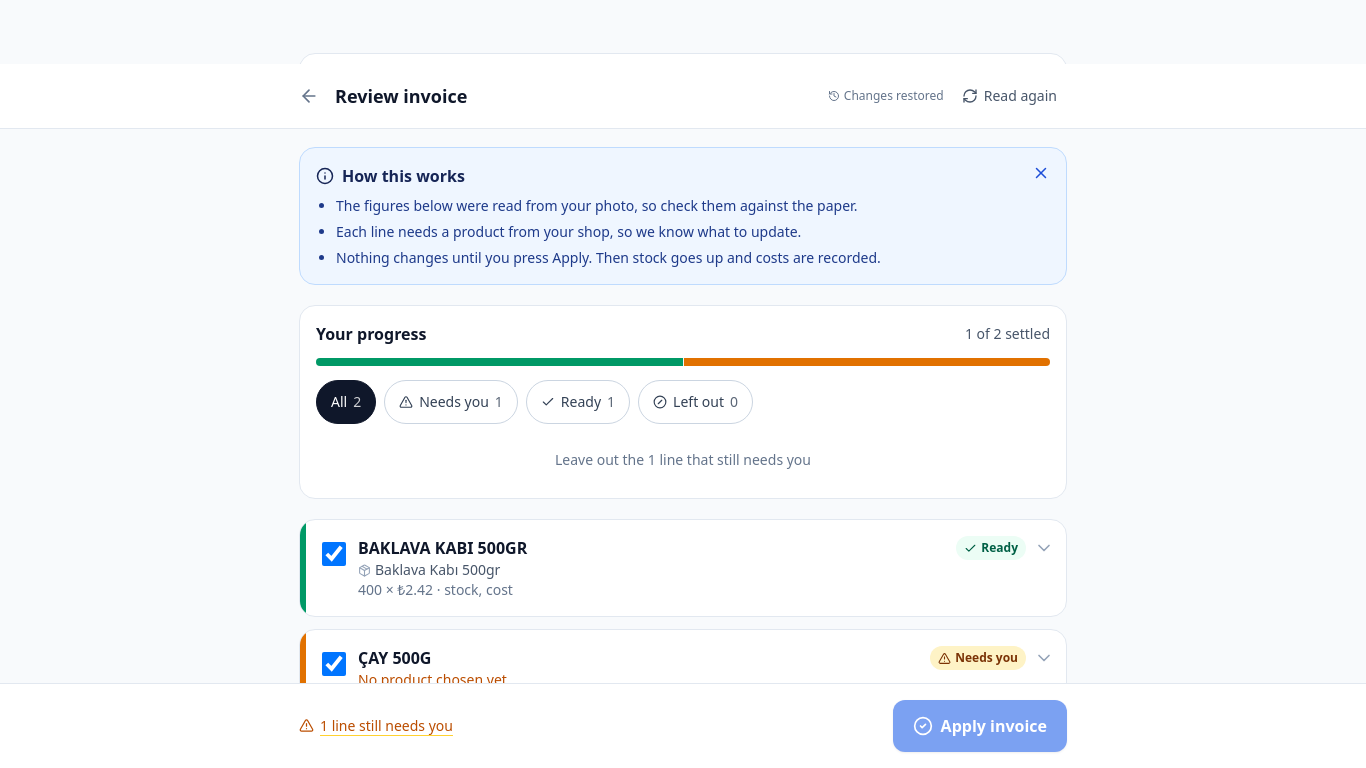
Test: getting through the lines › narrows to just the lines that still need a decision
Expected: the text "BAKLAVA KABI 500GR" is shown, [358, 537, 527, 559]
Click the button "Needs you 1".
click(451, 402)  # box [384, 380, 518, 424]
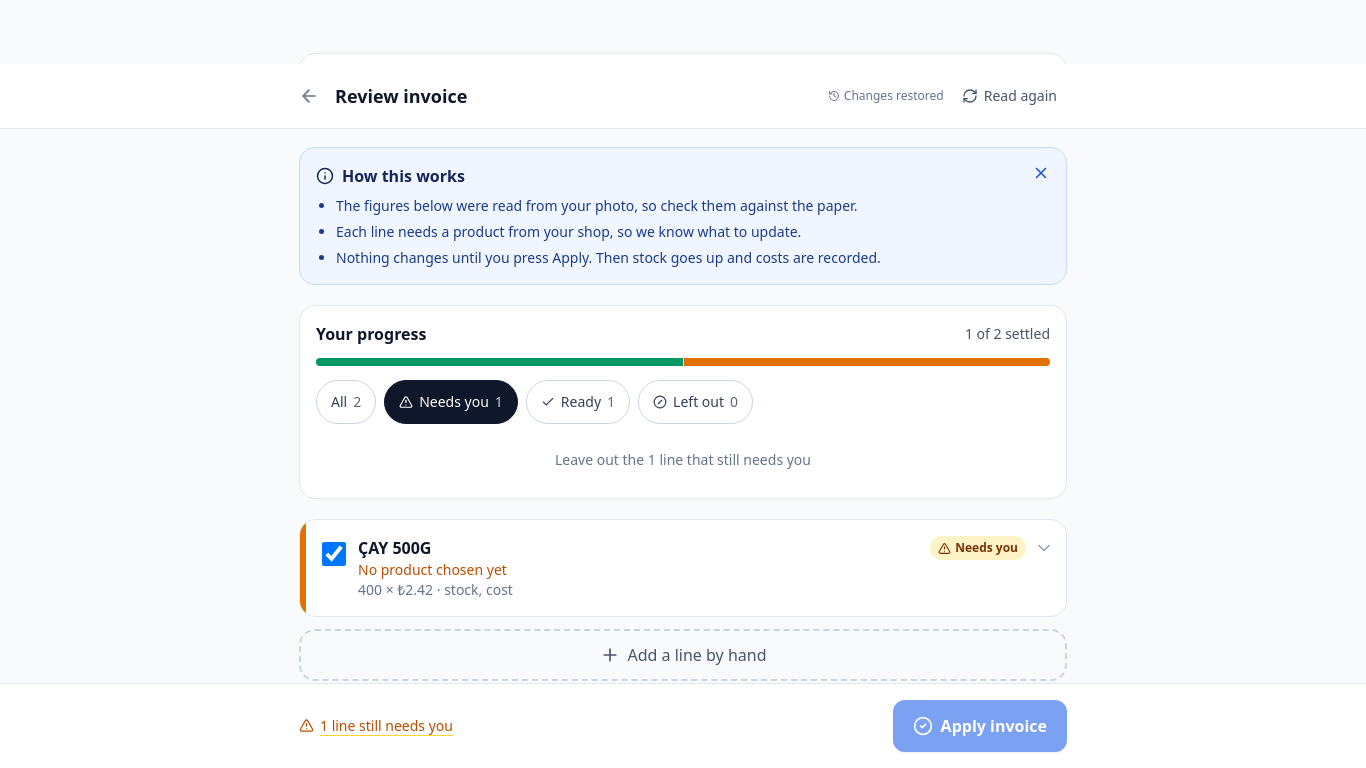
Expected: the text "ÇAY 500G" is shown, [358, 537, 432, 559]
Expected: the button "BAKLAVA KABI 500GR" is gone
